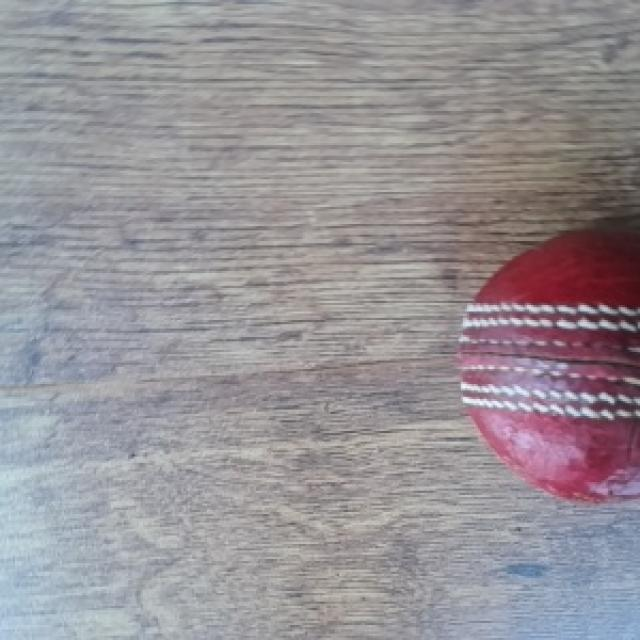ball: (448, 229, 640, 514)
